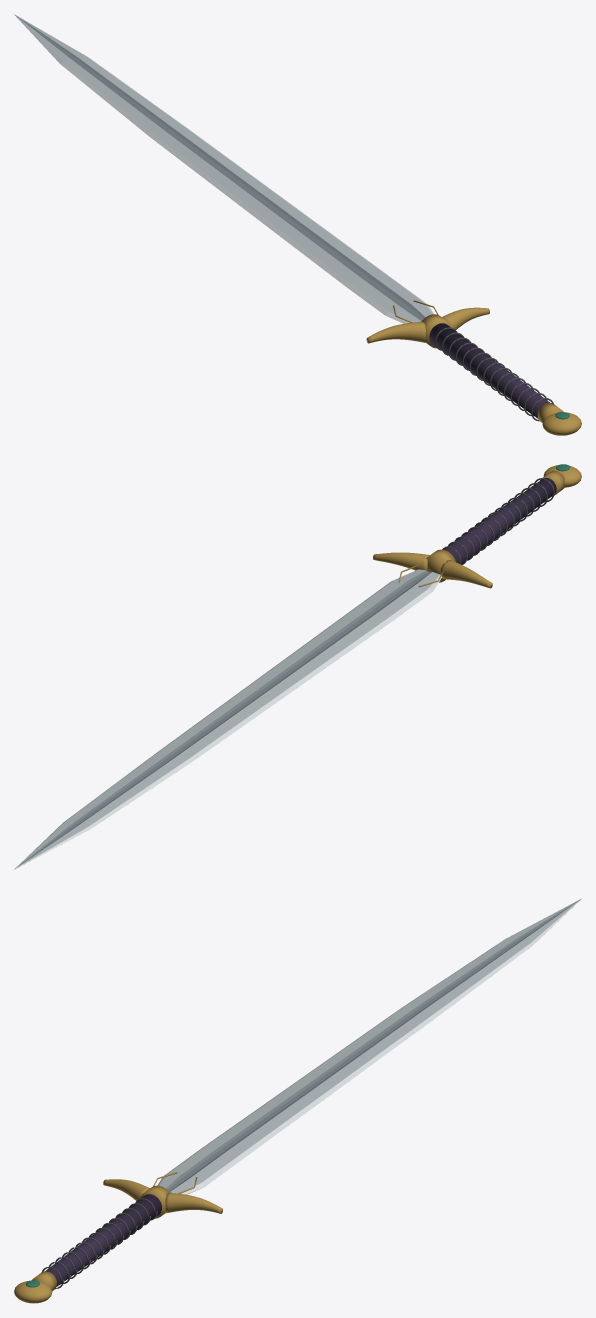
File: rift.glb
3 views of the same model, one above another, from view 1: azimuth 30°, elevation 25°; view 2: azimuth 150°, elevation 25°; view 3: azimuth 330°, elevation 25° (orthographic). The views are drawn at different scales.
Parts seen in each view (by area): view 1: Forged_rift; view 2: Forged_rift; view 3: Forged_rift.
Part boxes in pixels (x1,y1,x2,y2): Forged_rift: [14, 14, 581, 435]; Forged_rift: [14, 464, 581, 869]; Forged_rift: [14, 898, 581, 1303].
Size of the model in its own units: 0.2502 by 0.054 by 2.03.
